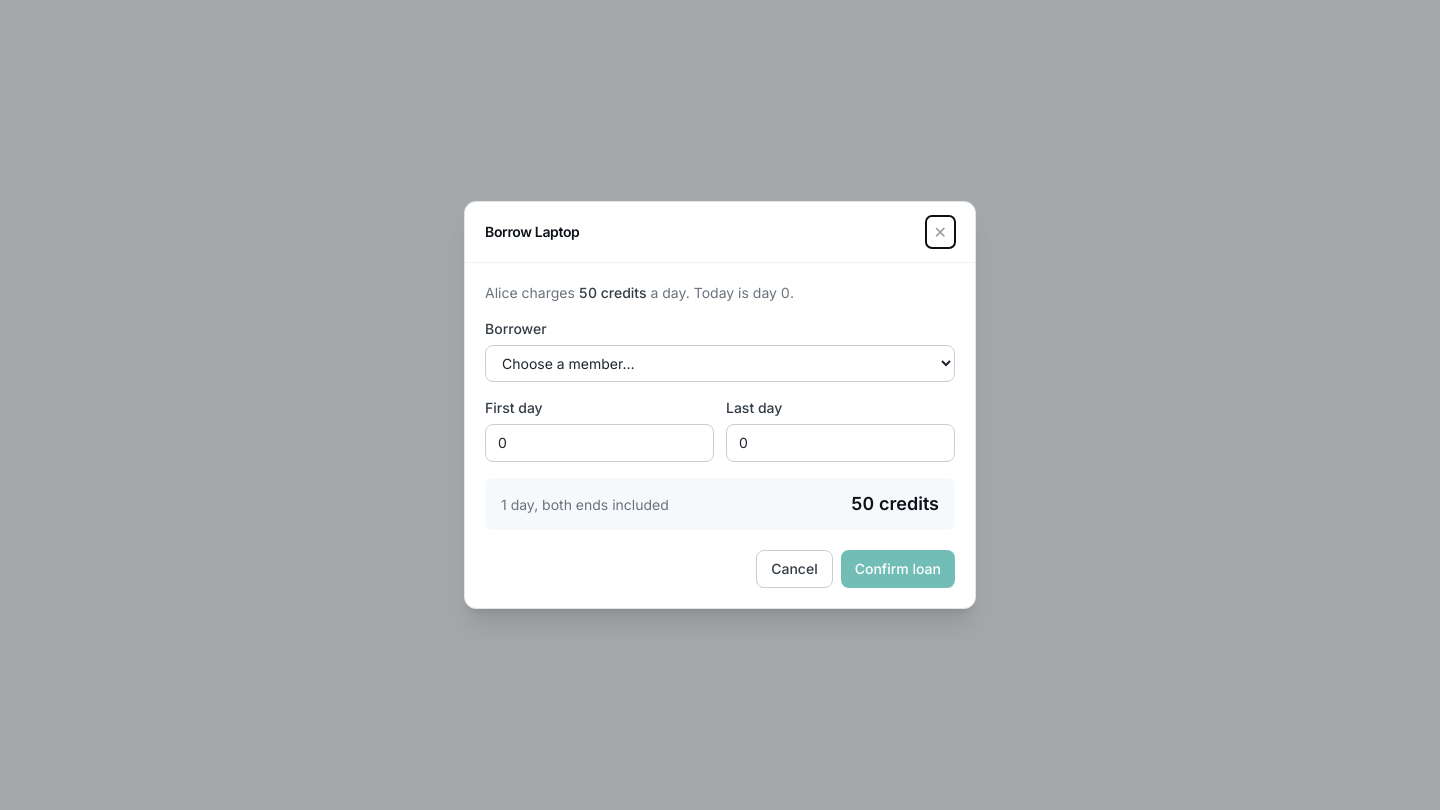
booking a loan › works out the cost as the days change, both ends counted
Expected: the dropdown labelled "Borrower" is shown, left=485, top=345, right=955, bottom=382
Expected: the message named "Loan total" shows "1 day, both ends included", left=485, top=478, right=955, bottom=530
Replace the text in the number field labelled "Last day" with "2": (840, 443) left=726, top=424, right=955, bottom=462
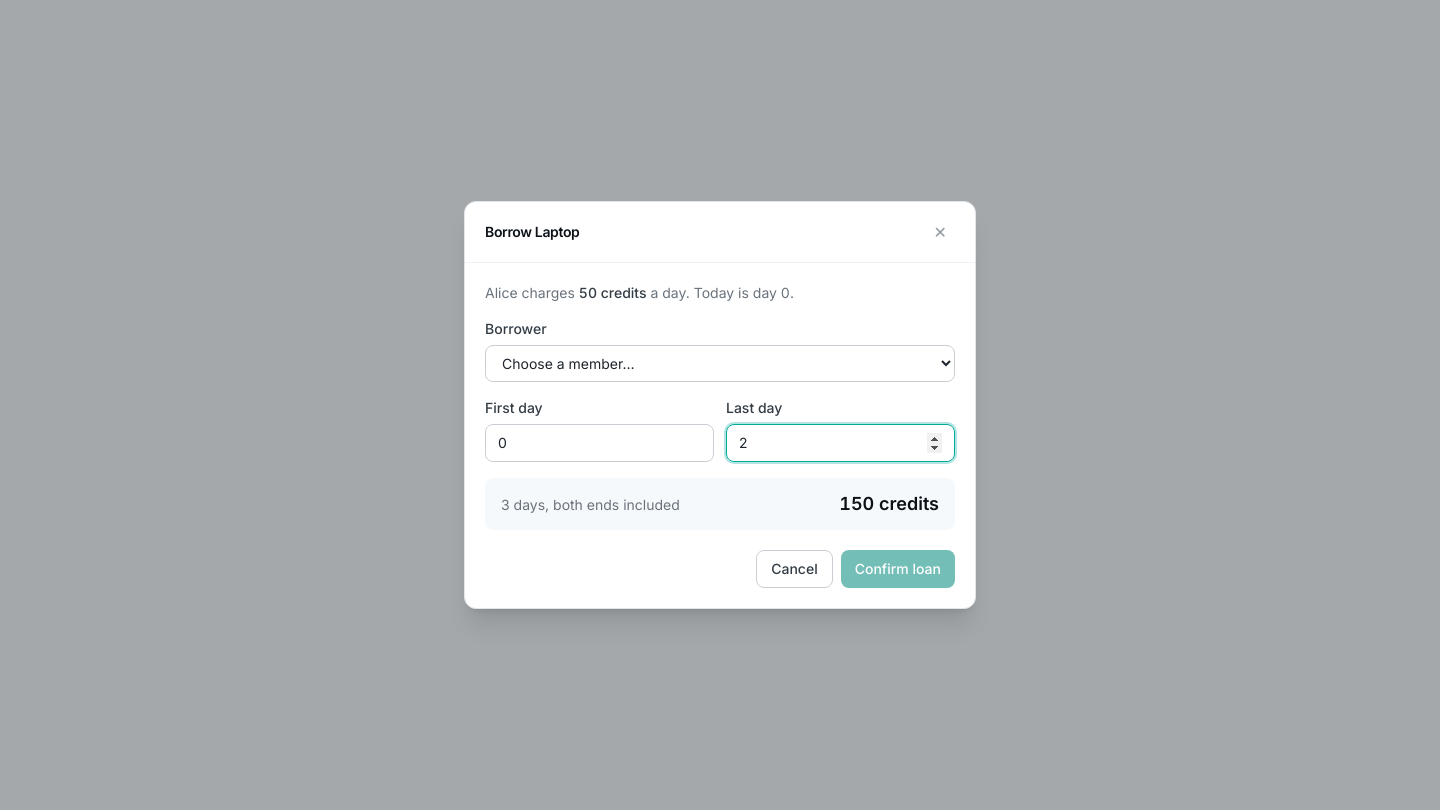
Expected: the message named "Loan total" shows "3 days, both ends included", left=485, top=478, right=955, bottom=530
Expected: the message named "Loan total" shows "150 credits", left=485, top=478, right=955, bottom=530
